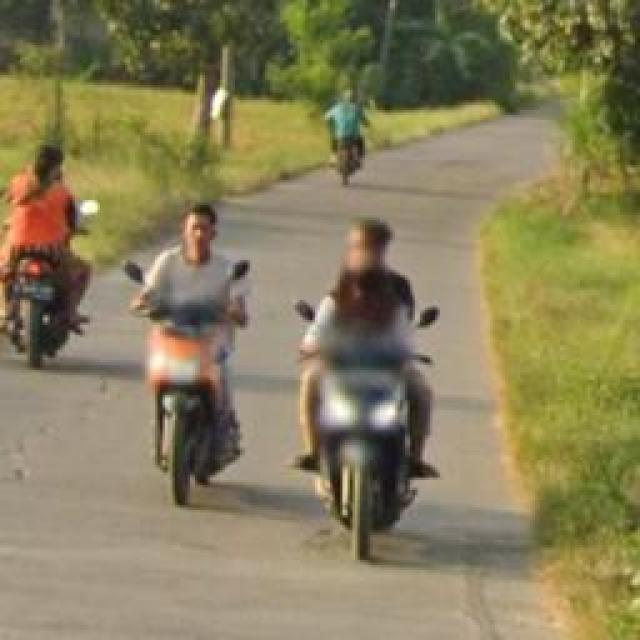motorbike: (303, 207, 442, 558), (133, 197, 250, 520), (7, 128, 95, 368), (322, 78, 372, 188)
